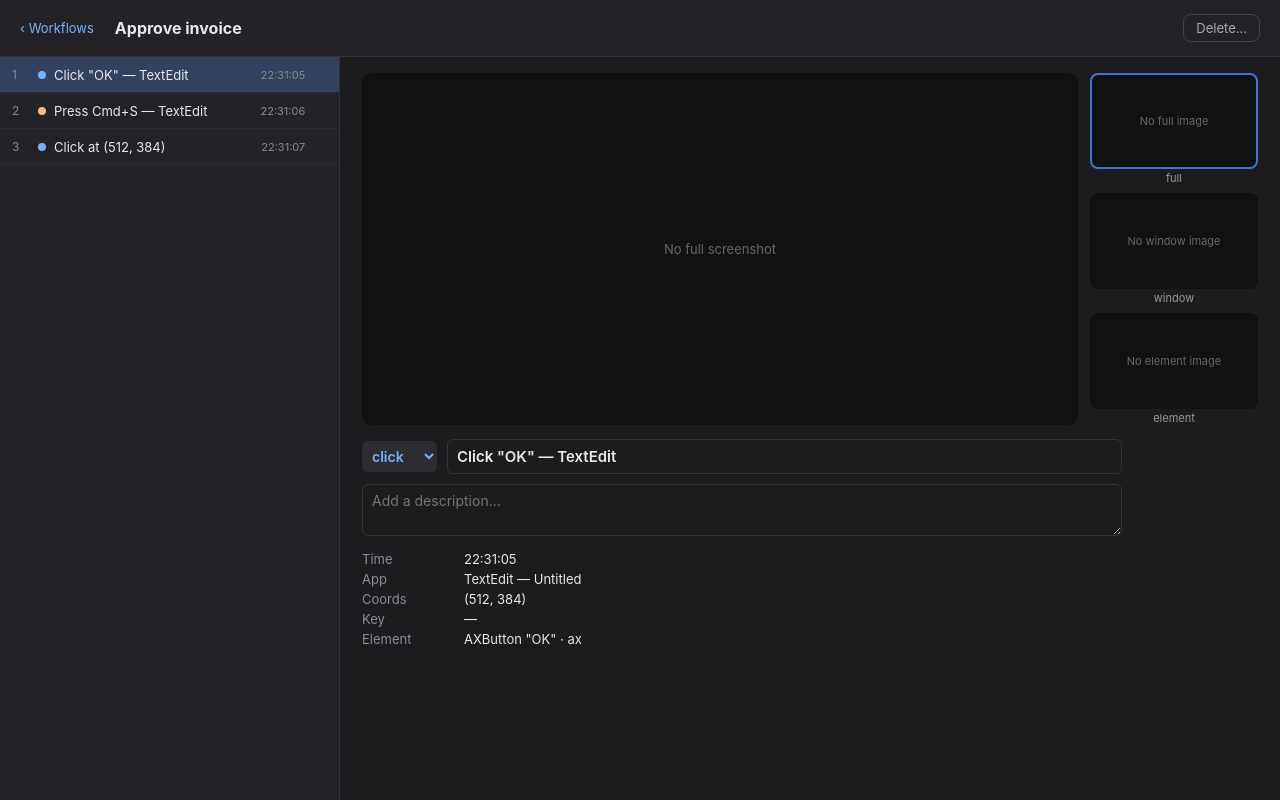
Test case: workflow deletion › re-sends dropped autosaves when the deletion fails
This screenshot has width=1280, height=800.
Expected: the text "Click \"OK\" — TextEdit" is shown, top-left (54, 66), bottom-right (189, 82)
Replace the text in the field named "Step title" with "First" at [784, 456], box top-left (447, 439), bottom-right (1122, 474)
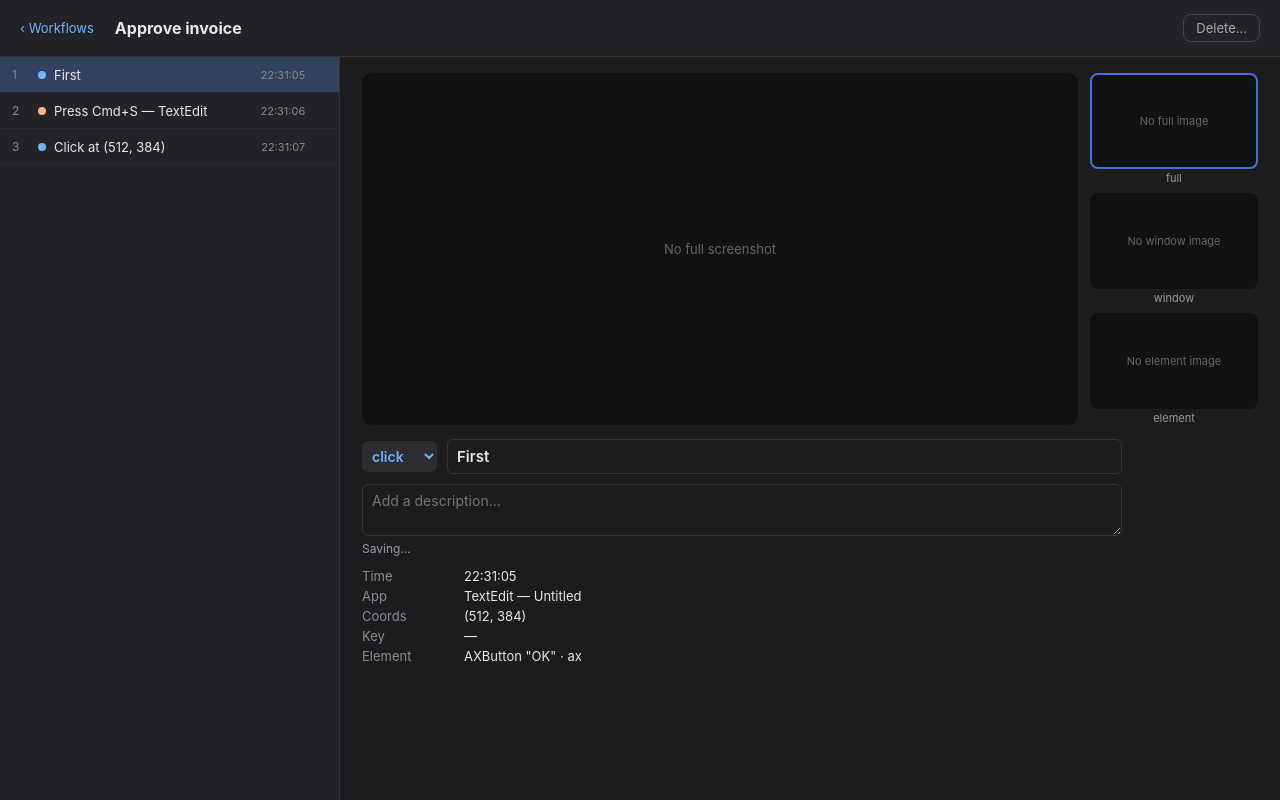
Replace the text in the field named "Step title" with "Final title" at [784, 456], box top-left (447, 439), bottom-right (1122, 474)
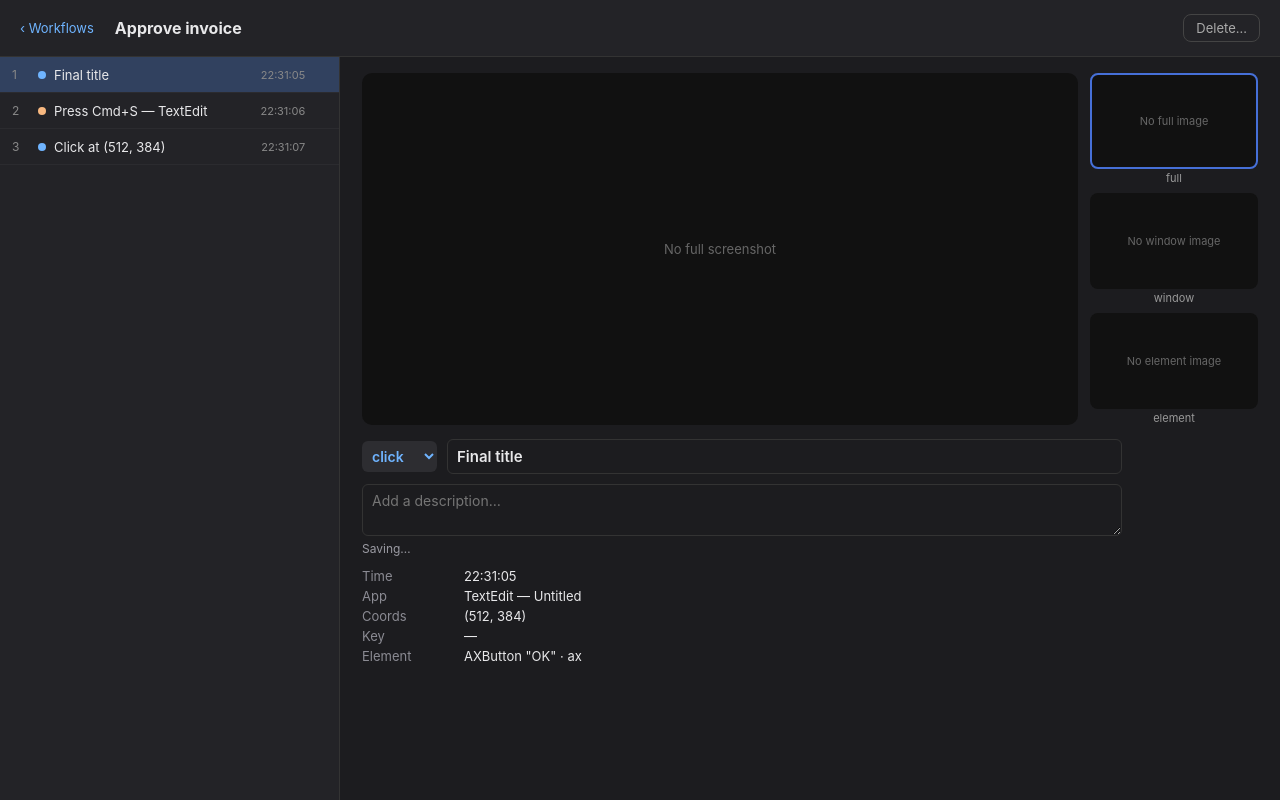
Click the button "Delete…".
click(1222, 28)  # box top-left (1183, 14), bottom-right (1260, 42)
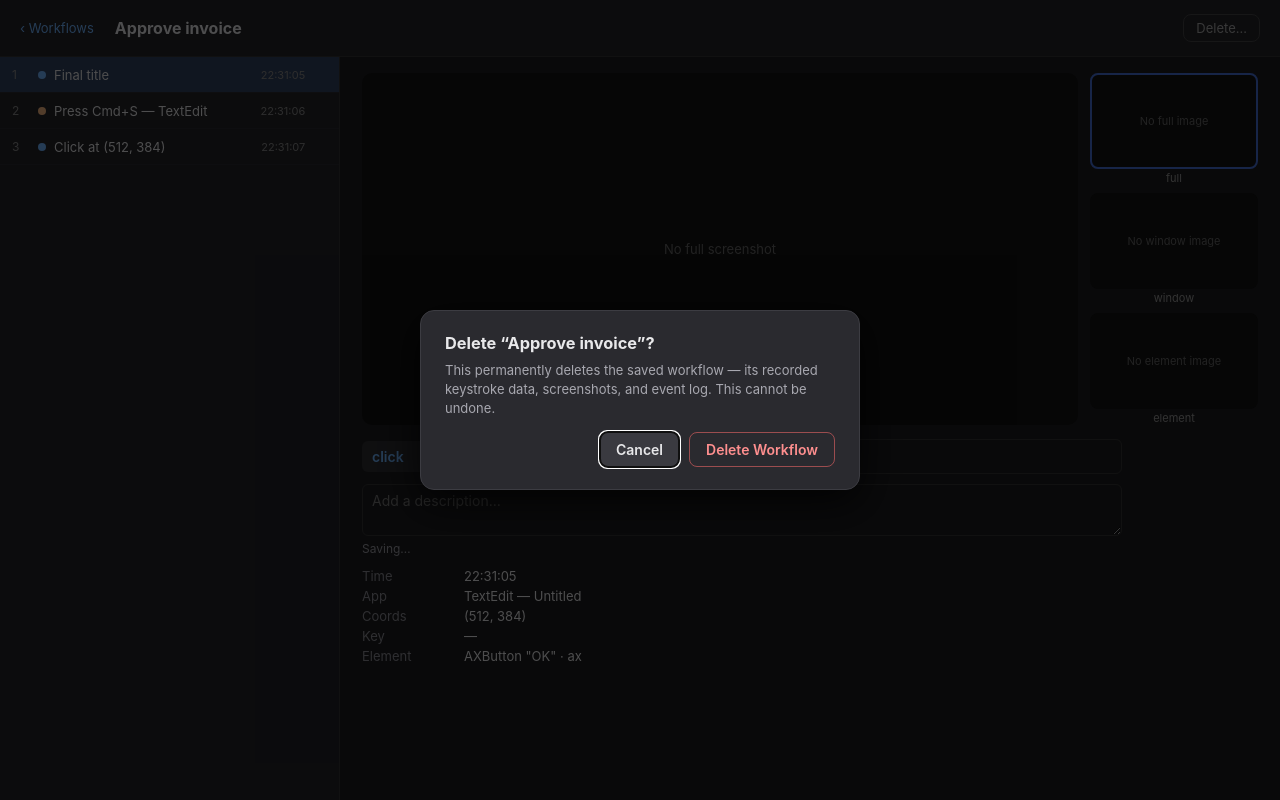
Click the button "Delete Workflow".
click(762, 449)  # box top-left (689, 432), bottom-right (835, 467)
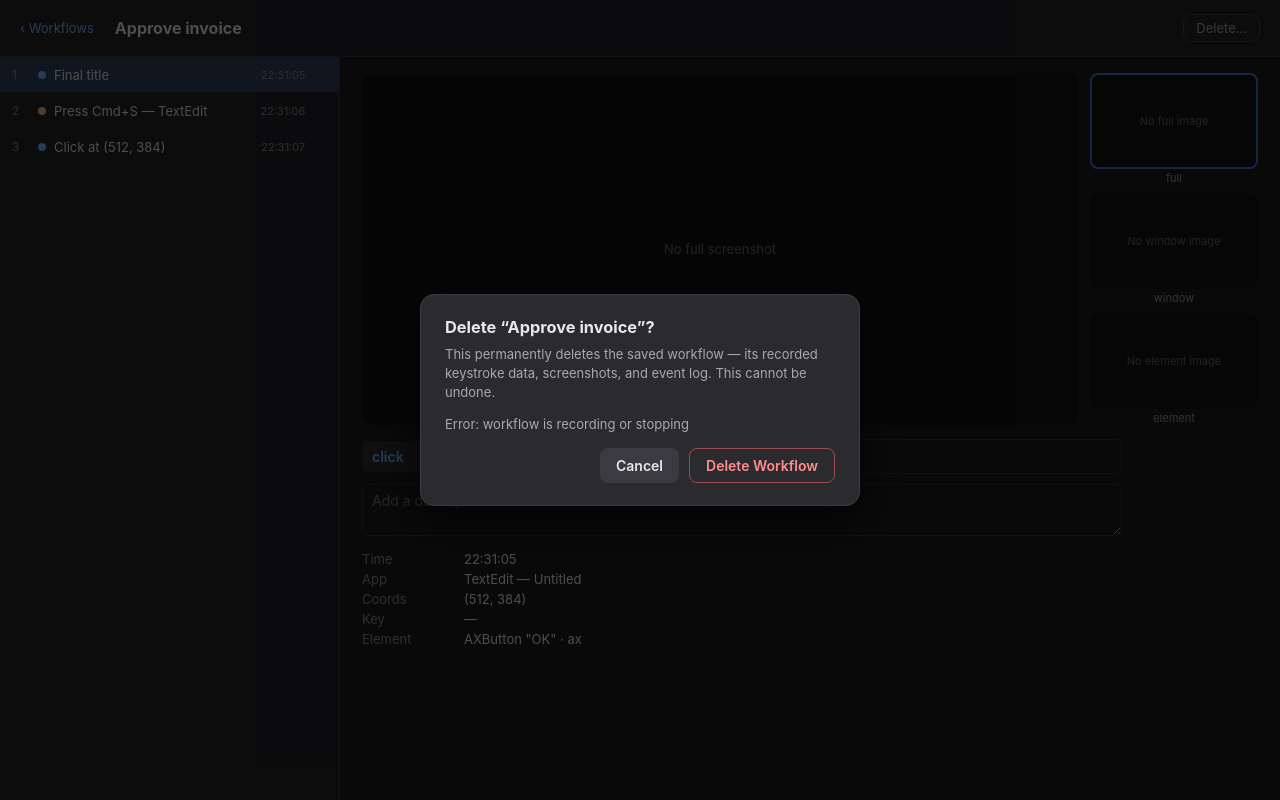
Result: the text "Saving…" is gone
